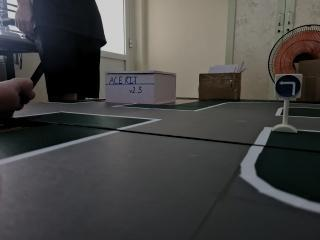left: (272, 70, 305, 101)
